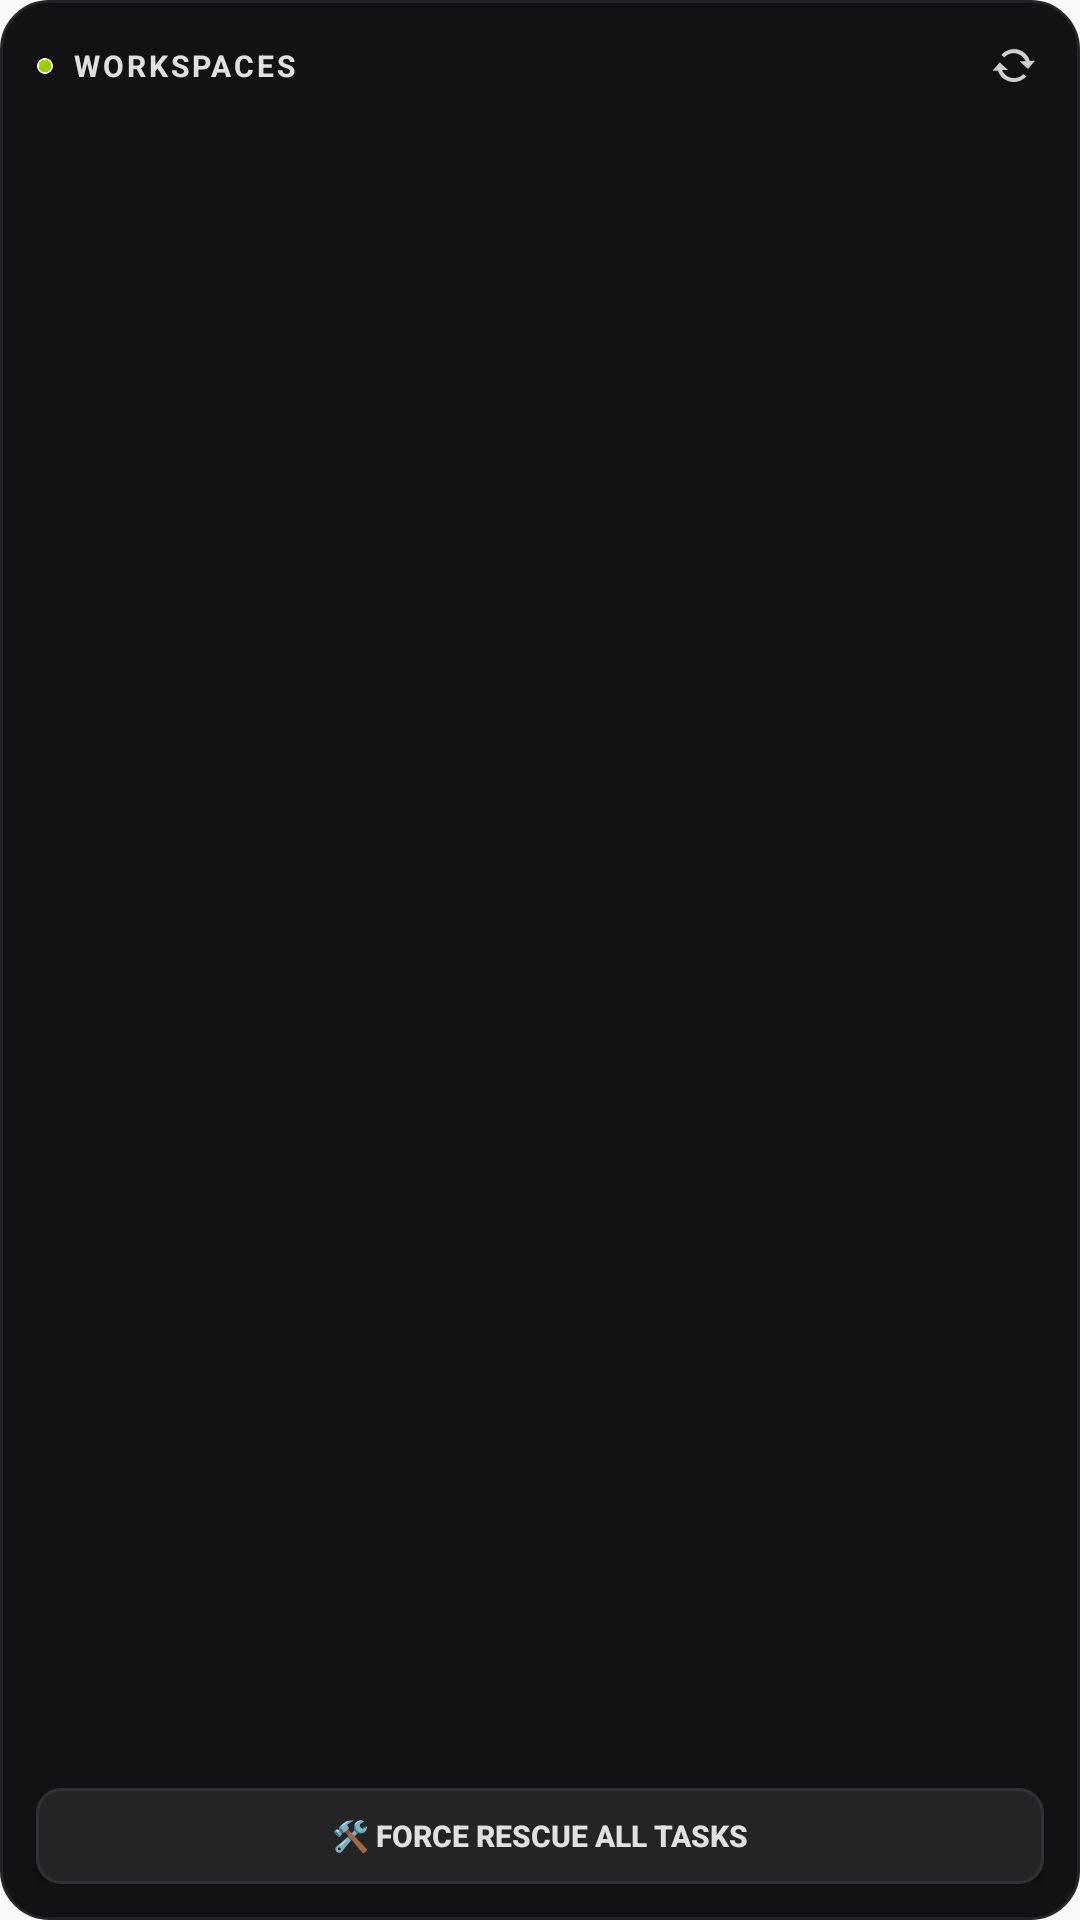

Named icons in this screenshot (1080w x 1920h) and their centers, point (x, y):
sync: point (1014, 65)
